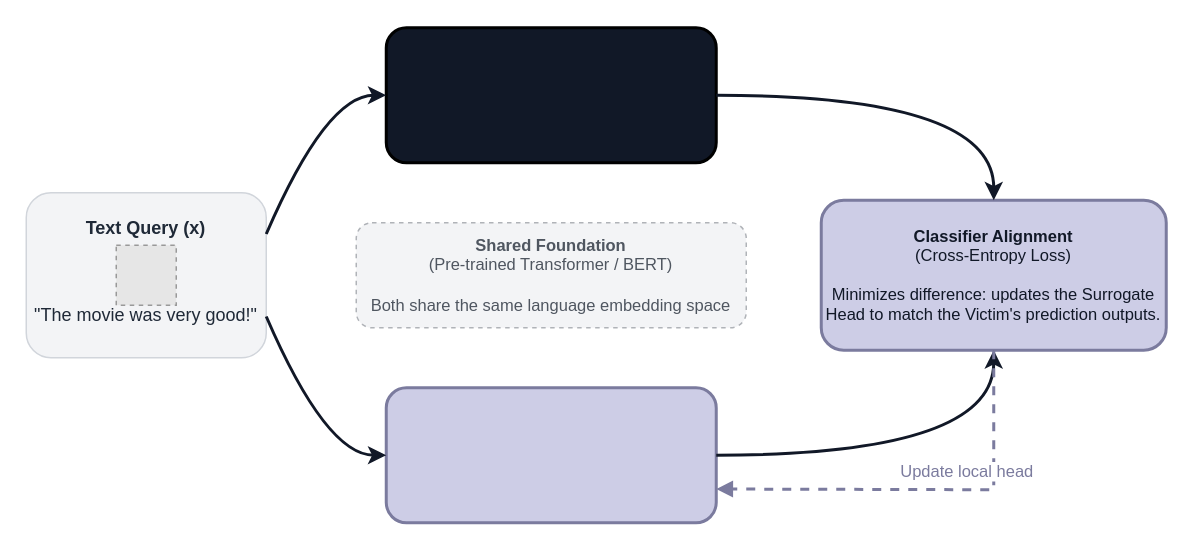
This 1194x549 diagram has some shape labels left out. Grey dashed boxes stand in for pictures. The shapes that lost their labels are listed below. From the top down, each one's centre as x and y in pixels, then its label:
the point at 550,95: Victim Model (Teacher) Private Fine-Tuned Head Output: Positive (90%)
the point at 550,455: Surrogate Model (Student) Local Clone Head Output: Positive (70%)
